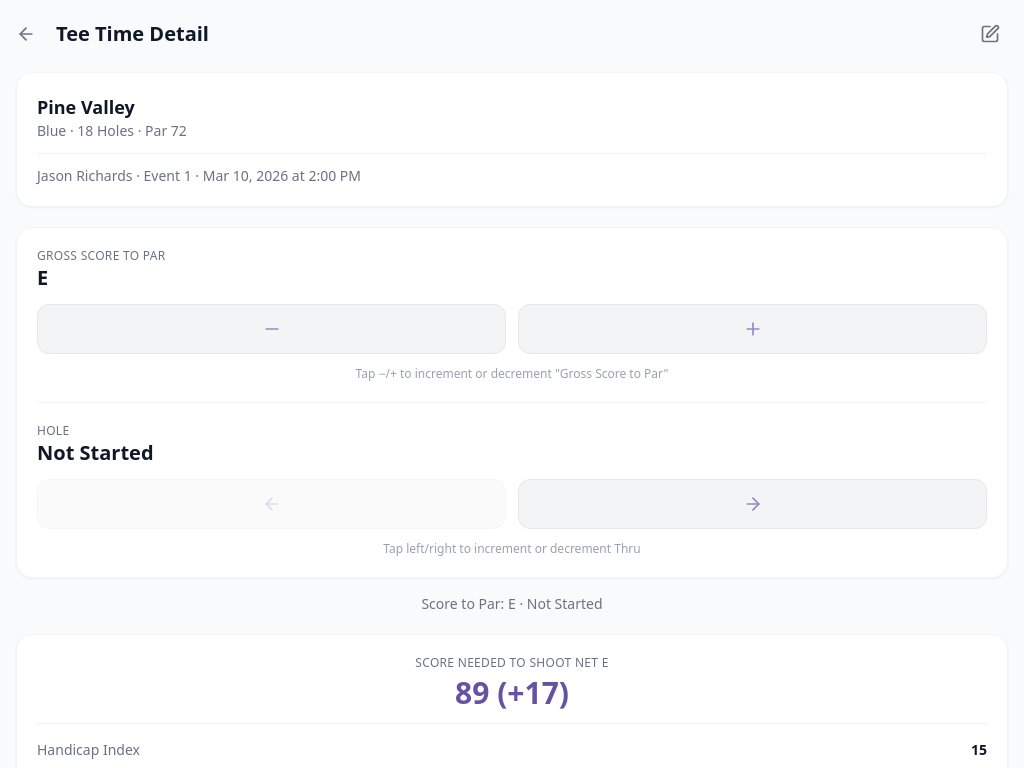
Test: Score Detail Page - Course/Tee Change › shows Change button when in edit mode
Expected: the text "Pine Valley" is shown, [37,95,135,119]
Click the 2nd button at [990, 34], box [972,16,1008,52]
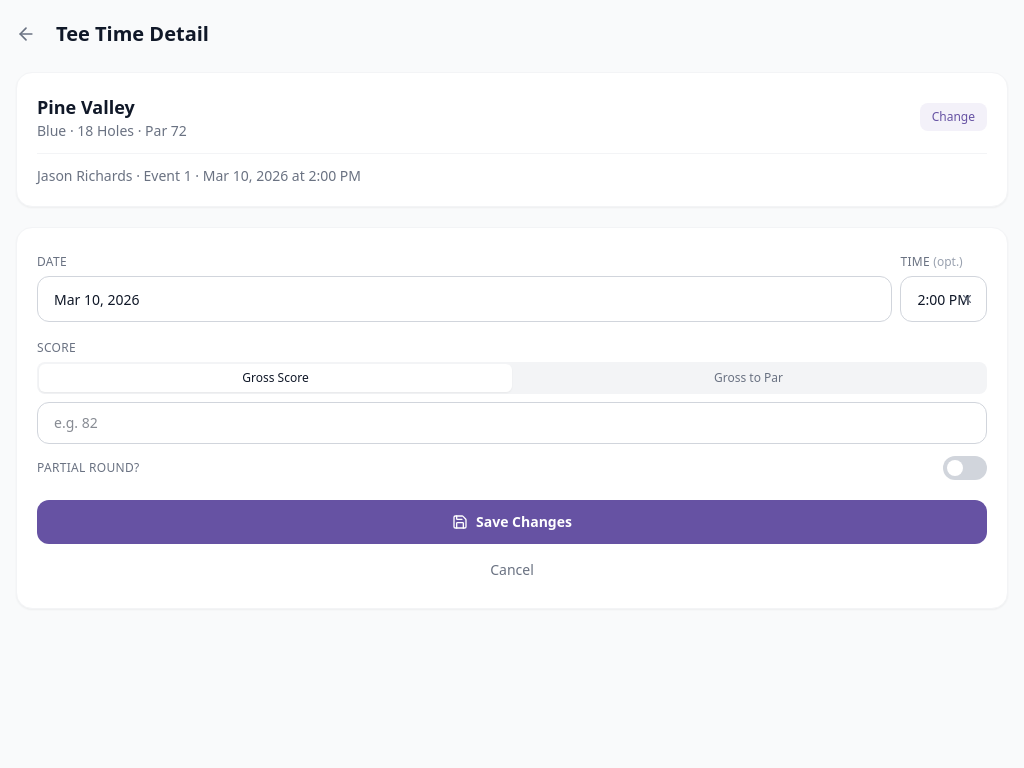
Now the button "Change" is shown, box [920,103,987,131]
